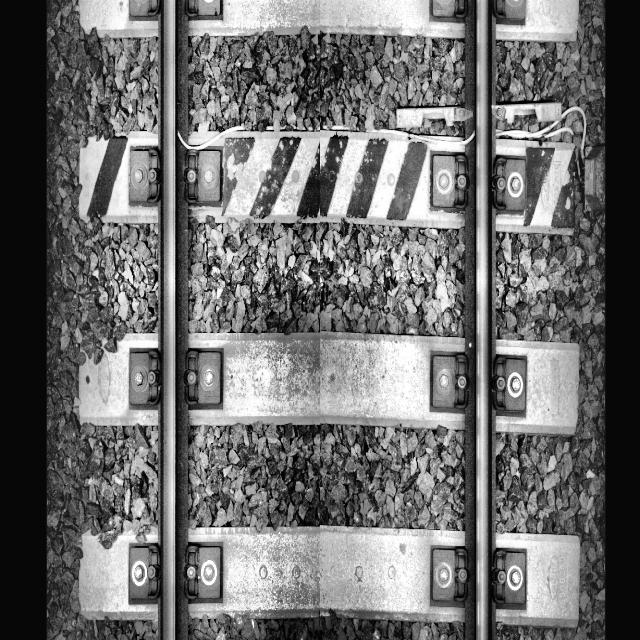Clips: (425, 352, 472, 412), (488, 543, 529, 609), (430, 149, 469, 213), (182, 543, 222, 605), (430, 542, 468, 606), (491, 154, 526, 216), (185, 350, 223, 406), (186, 144, 223, 200), (129, 542, 161, 606), (128, 347, 162, 407), (489, 356, 526, 411), (128, 143, 160, 204), (429, 0, 469, 23), (491, 0, 525, 24), (185, 0, 224, 19), (128, 0, 159, 19)
Sleepers: (76, 309, 585, 444), (82, 118, 584, 250), (76, 521, 586, 630), (74, 0, 585, 45)
